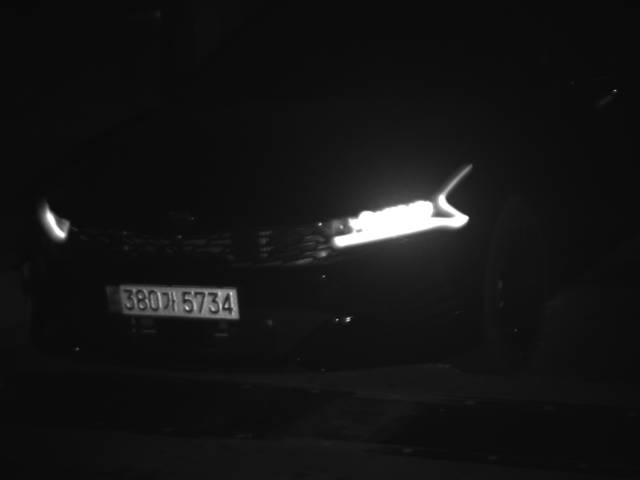car: (24, 1, 638, 374)
plate: (104, 282, 243, 323)
